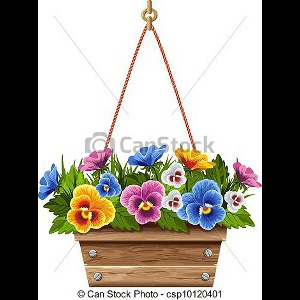flowerpot: (73, 196, 233, 288)
